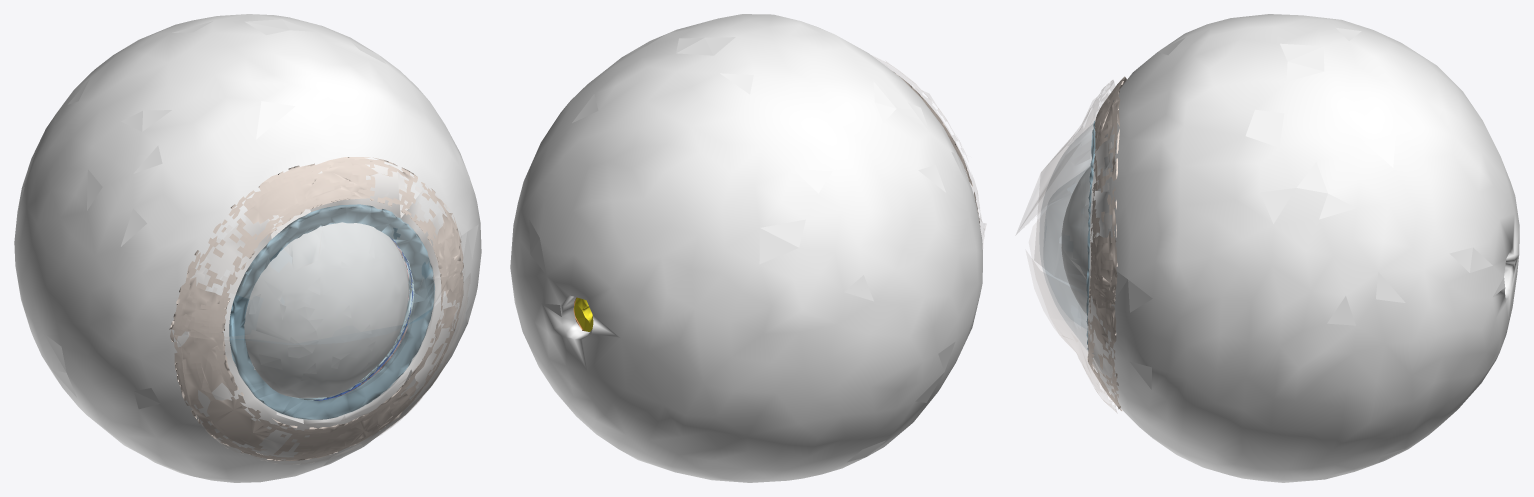
The model's file is 3d-vh-f-eye-r-20.glb.
The picture shows the model from 3 angles, left to right: view 1: azimuth 30°, elevation 25°; view 2: azimuth 150°, elevation 25°; view 3: azimuth 270°, elevation 25°; orthographic projection.
Visible parts, largest first — view 1: VH_F_sclera_R, VH_F_cornea_R, VH_F_palpebral_conjunctiva_of_right_upper_eyelid, VH_F_palpebral_conjunctiva_of_right_lower_eyelid, VH_F_bulbar_conjunctiva_R, VH_F_aqueous_humor_R, VH_F_corneo_scleral_junction_R, VH_F_trabecular_meshwork_R; view 2: VH_F_sclera_R, VH_F_palpebral_conjunctiva_of_right_upper_eyelid; view 3: VH_F_sclera_R, VH_F_palpebral_conjunctiva_of_right_upper_eyelid, VH_F_cornea_R, VH_F_bulbar_conjunctiva_R, VH_F_palpebral_conjunctiva_of_right_lower_eyelid, VH_F_aqueous_humor_R, VH_F_corneo_scleral_junction_R.
Boxes of the visible parts, box(x1,y1,x2,y2) form: VH_F_sclera_R: box(14, 14, 481, 482); VH_F_cornea_R: box(230, 207, 434, 419); VH_F_palpebral_conjunctiva_of_right_upper_eyelid: box(177, 161, 464, 342); VH_F_palpebral_conjunctiva_of_right_lower_eyelid: box(175, 275, 469, 464); VH_F_bulbar_conjunctiva_R: box(169, 157, 463, 461); VH_F_aqueous_humor_R: box(244, 222, 409, 398); VH_F_corneo_scleral_junction_R: box(229, 204, 434, 419); VH_F_trabecular_meshwork_R: box(287, 240, 414, 400); VH_F_sclera_R: box(510, 14, 982, 482); VH_F_palpebral_conjunctiva_of_right_upper_eyelid: box(873, 56, 981, 221); VH_F_sclera_R: box(1087, 14, 1519, 482); VH_F_palpebral_conjunctiva_of_right_upper_eyelid: box(1016, 80, 1114, 305); VH_F_cornea_R: box(1040, 124, 1094, 350); VH_F_bulbar_conjunctiva_R: box(1087, 76, 1126, 410); VH_F_palpebral_conjunctiva_of_right_lower_eyelid: box(1026, 219, 1116, 412); VH_F_aqueous_humor_R: box(1061, 166, 1090, 314); VH_F_corneo_scleral_junction_R: box(1086, 120, 1095, 349).
Size of the model in its own units: 0.0245 by 0.0244 by 0.0263.
